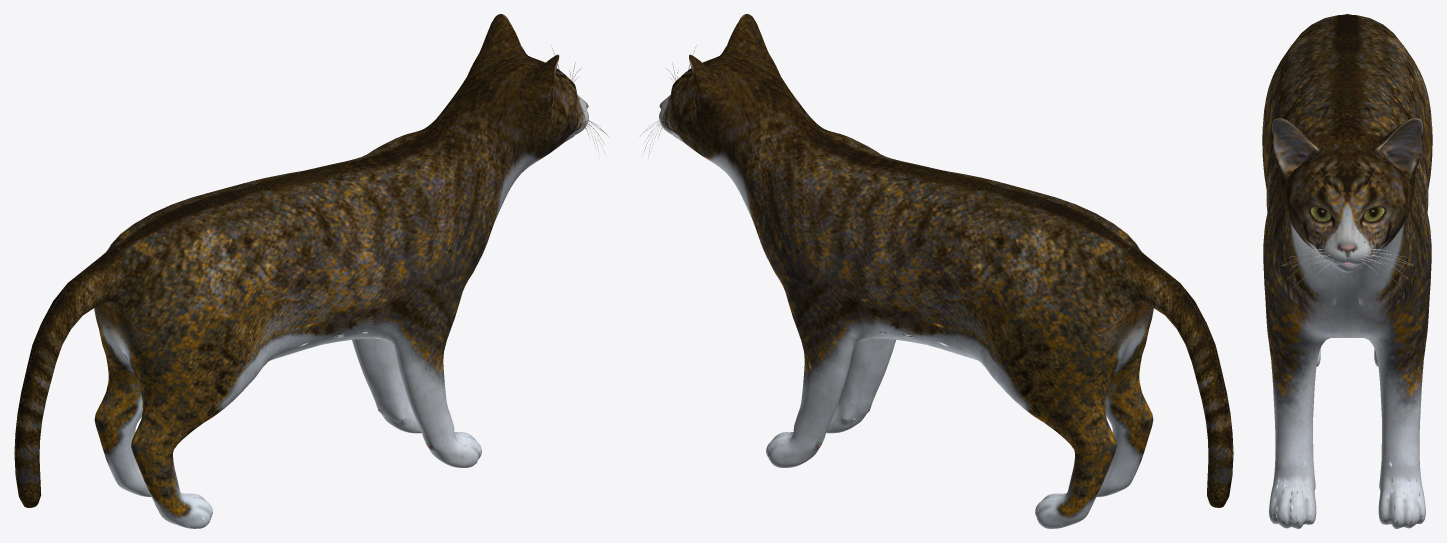
File: sm_cat.fbx
3 views of the same model, side by side, from view 1: azimuth 30°, elevation 25°; view 2: azimuth 150°, elevation 25°; view 3: azimuth 270°, elevation 25° (orthographic). The views are drawn at different scales.
Visible parts, largest first — view 1: sm_cat; view 2: sm_cat; view 3: sm_cat.
Boxes of the visible parts, x1,y1,x2,y2 form: sm_cat: (14,14,608,528); sm_cat: (639,14,1233,528); sm_cat: (1262,14,1432,528).
Bounding box in the file's own units: 0.6426 × 0.4168 × 0.1403.
Materials: 1 (1 with a texture image).
